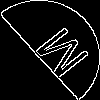M: (25, 25, 92, 87)
